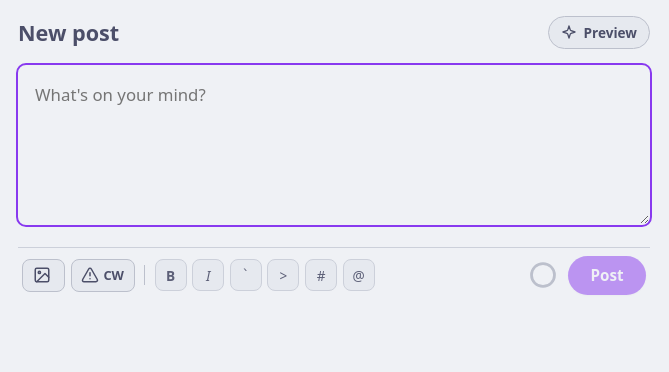
Test: ComposeRoute › toggles content warning input field and updates aria-pressed
This screenshot has width=669, height=372.
Click the button with aria-label "Toggle content warning".
click(103, 275)  # box 71,259 -> 134,292
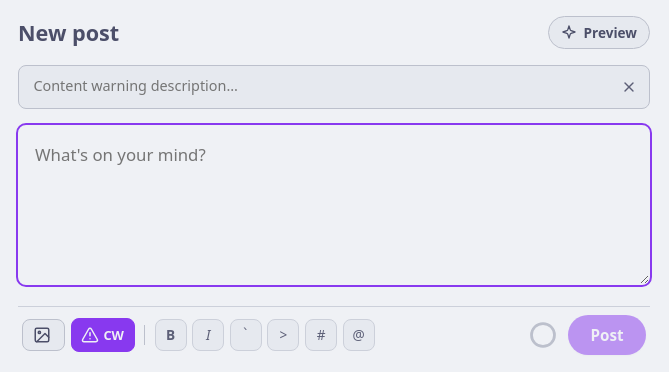
Expected: the field with placeholder "Content warning description…" is shown, 27,70 -> 609,104
